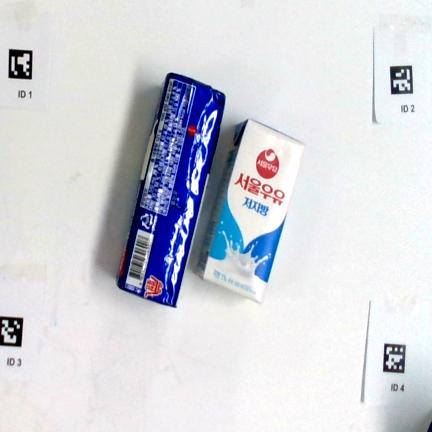cracker_ace: (116, 73, 228, 308)
milk_blue: (193, 119, 305, 303)
